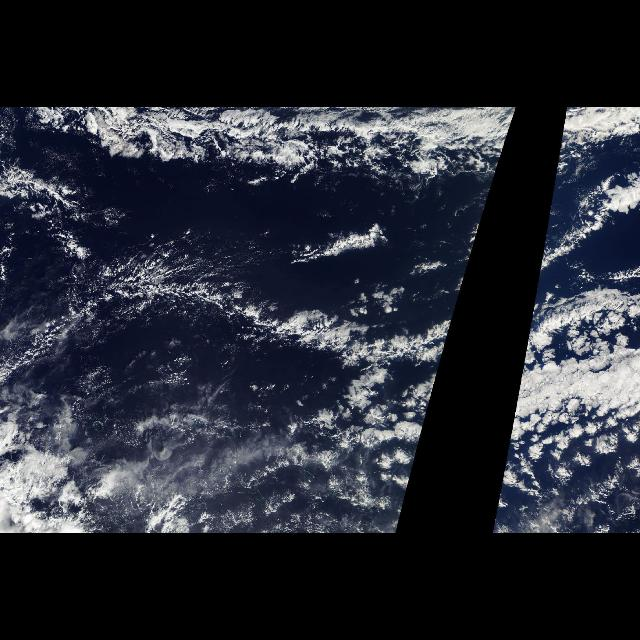Fish: (2, 208, 486, 388), (28, 107, 518, 173), (519, 209, 615, 375), (554, 107, 640, 173)
Flower: (502, 338, 640, 470), (355, 338, 447, 470)
